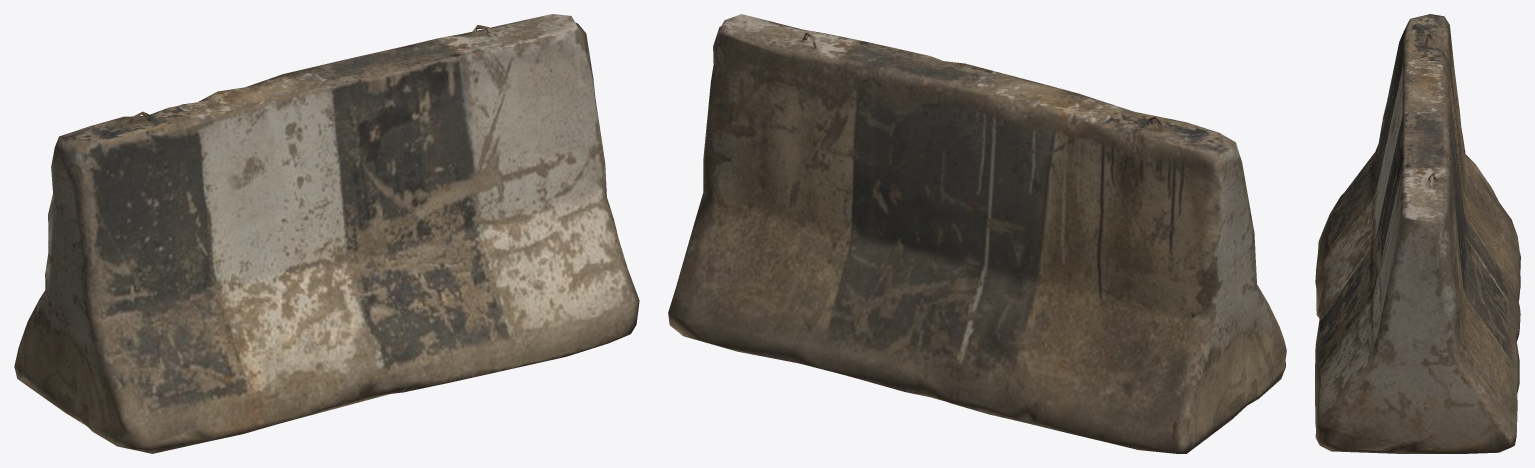
The model's file is road_barrier.glb.
The picture shows the model from 3 angles, left to right: view 1: azimuth 30°, elevation 25°; view 2: azimuth 150°, elevation 25°; view 3: azimuth 270°, elevation 25°; orthographic projection. The views are drawn at different scales.
Bounding box in the file's own units: 1.54 × 0.8255 × 0.6301.
1 material, 1 textured.
